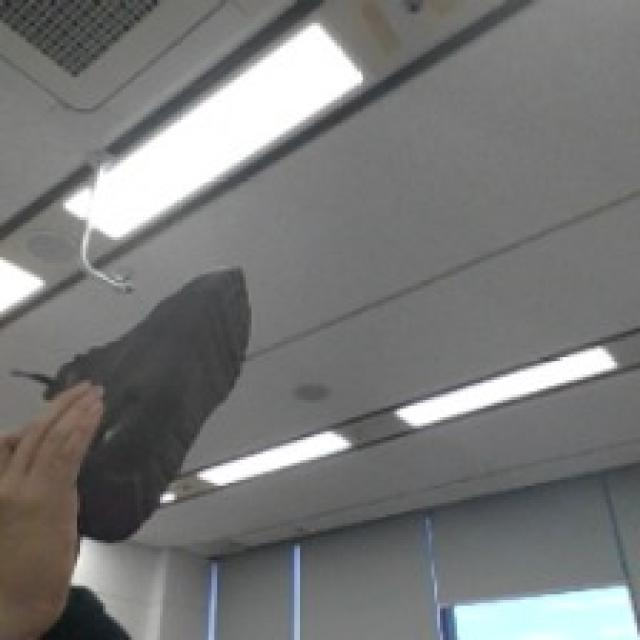shoe: (56, 268, 251, 541)
